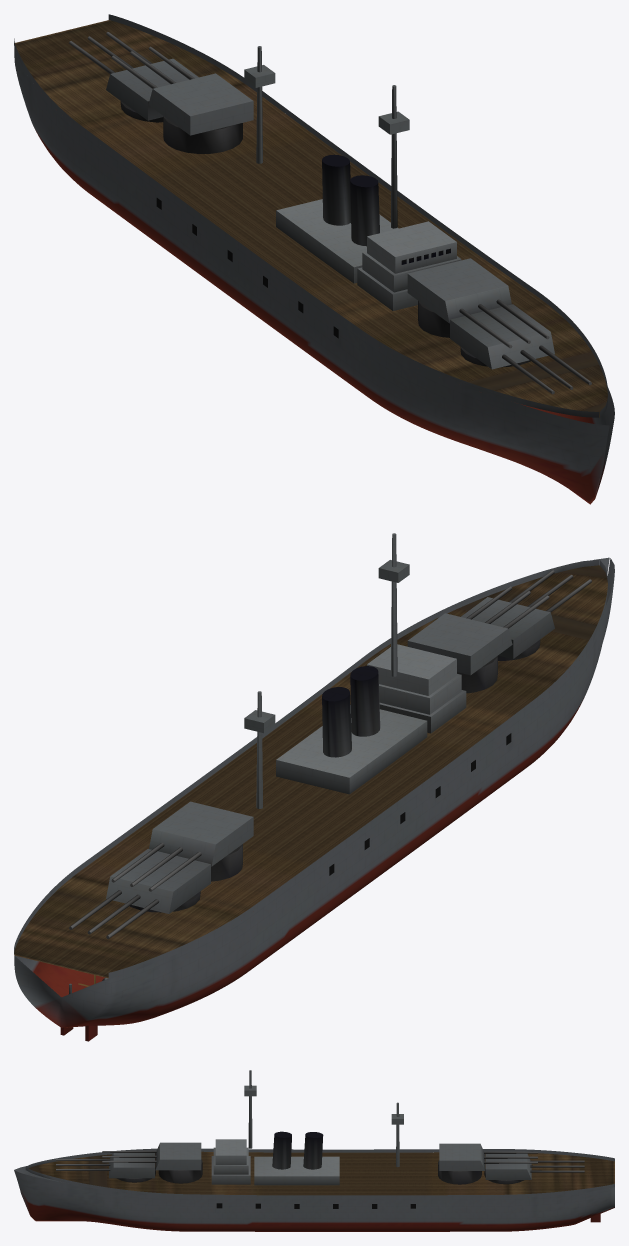
The model's file is model_built.glb.
3 views of the same model, one above another, from view 1: azimuth 30°, elevation 25°; view 2: azimuth 150°, elevation 25°; view 3: azimuth 270°, elevation 25° (orthographic). The views are drawn at different scales.
Parts seen in each view (by area): view 1: main; view 2: main; view 3: main.
Part boxes in pixels (x1,y1,x2,y2): main: (14, 14, 614, 504); main: (14, 533, 614, 1041); main: (14, 1070, 614, 1231).
Bounding box in the file's own units: 28.16 × 42.89 × 155.
Materials: 2 (2 with a texture image).
